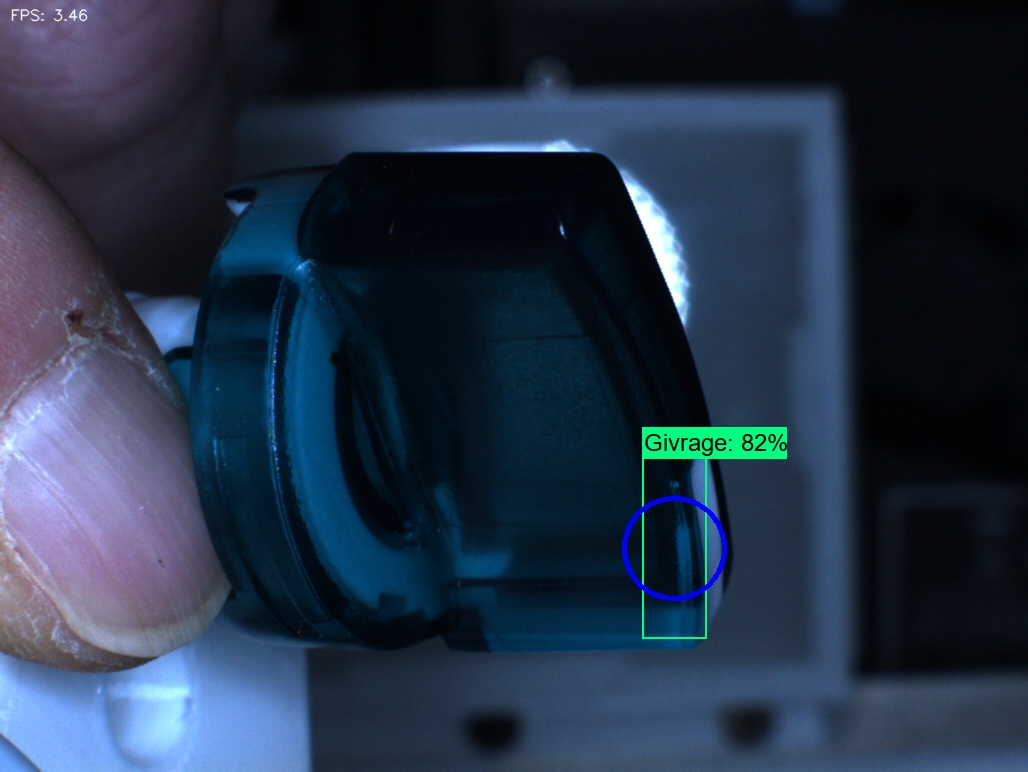PointNoir: (295, 319, 378, 401)
